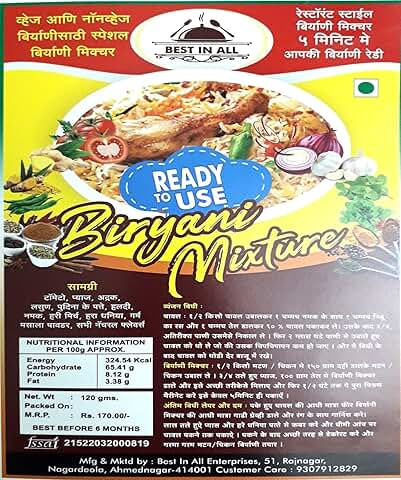Biryani: (3, 3, 401, 480)
